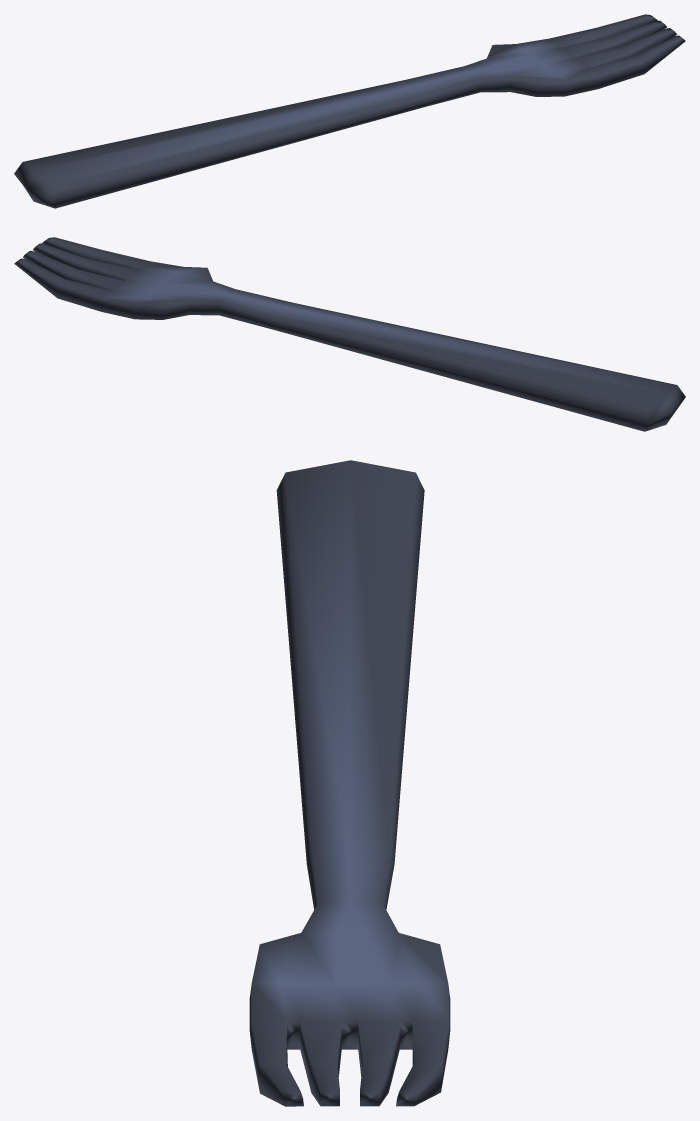
The model's file is fork.fbx.
The picture shows the model from 3 angles, top to bottom: view 1: azimuth 30°, elevation 25°; view 2: azimuth 150°, elevation 25°; view 3: azimuth 270°, elevation 25°; orthographic projection. The views are drawn at different scales.
Visible parts, largest first — view 1: pCube8; view 2: pCube8; view 3: pCube8.
Part boxes in pixels (x1,y1,x2,y2): pCube8: [14, 14, 685, 208]; pCube8: [14, 237, 685, 431]; pCube8: [249, 460, 450, 1106].
Size of the model in its own units: 335 by 15.56 by 45.24.
